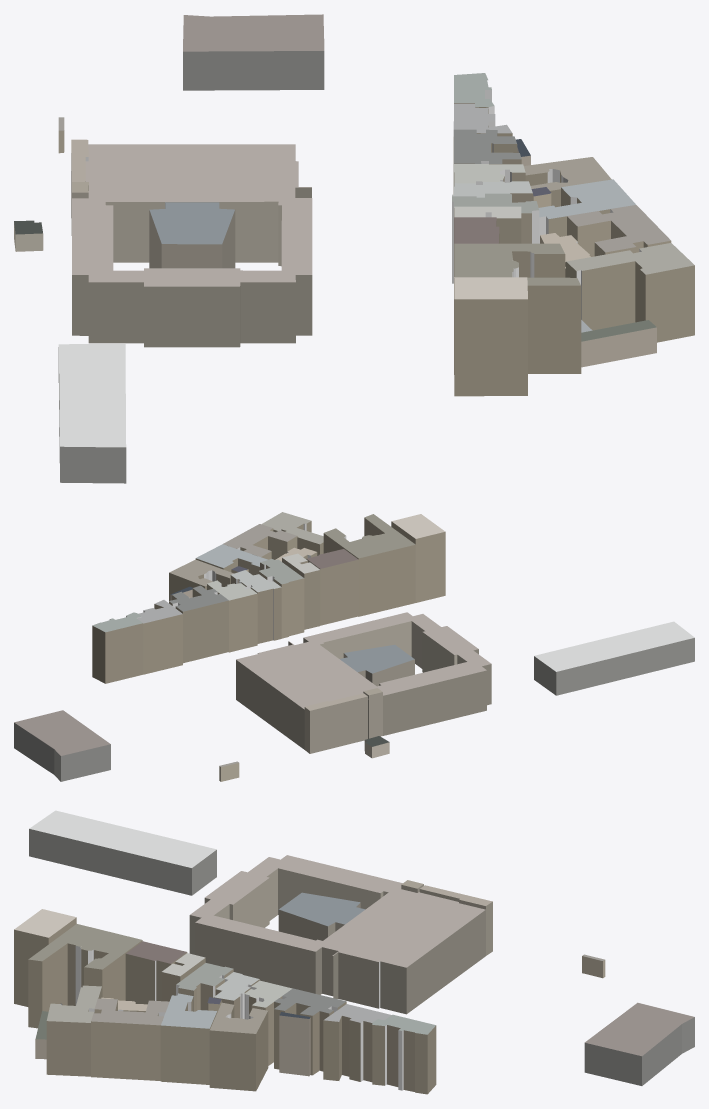
The picture shows the model from 3 angles, top to bottom: view 1: azimuth 30°, elevation 25°; view 2: azimuth 150°, elevation 25°; view 3: azimuth 270°, elevation 25°; orthographic projection. The views are drawn at different scales.
Visible parts, largest first — view 1: tuile; view 2: tuile; view 3: tuile.
Part boxes in pixels (bbox=[...]): tuile: bbox=[14, 14, 694, 483]; tuile: bbox=[14, 512, 694, 781]; tuile: bbox=[14, 810, 694, 1094].
Size of the model in its own units: 239 by 35.8 by 276.
